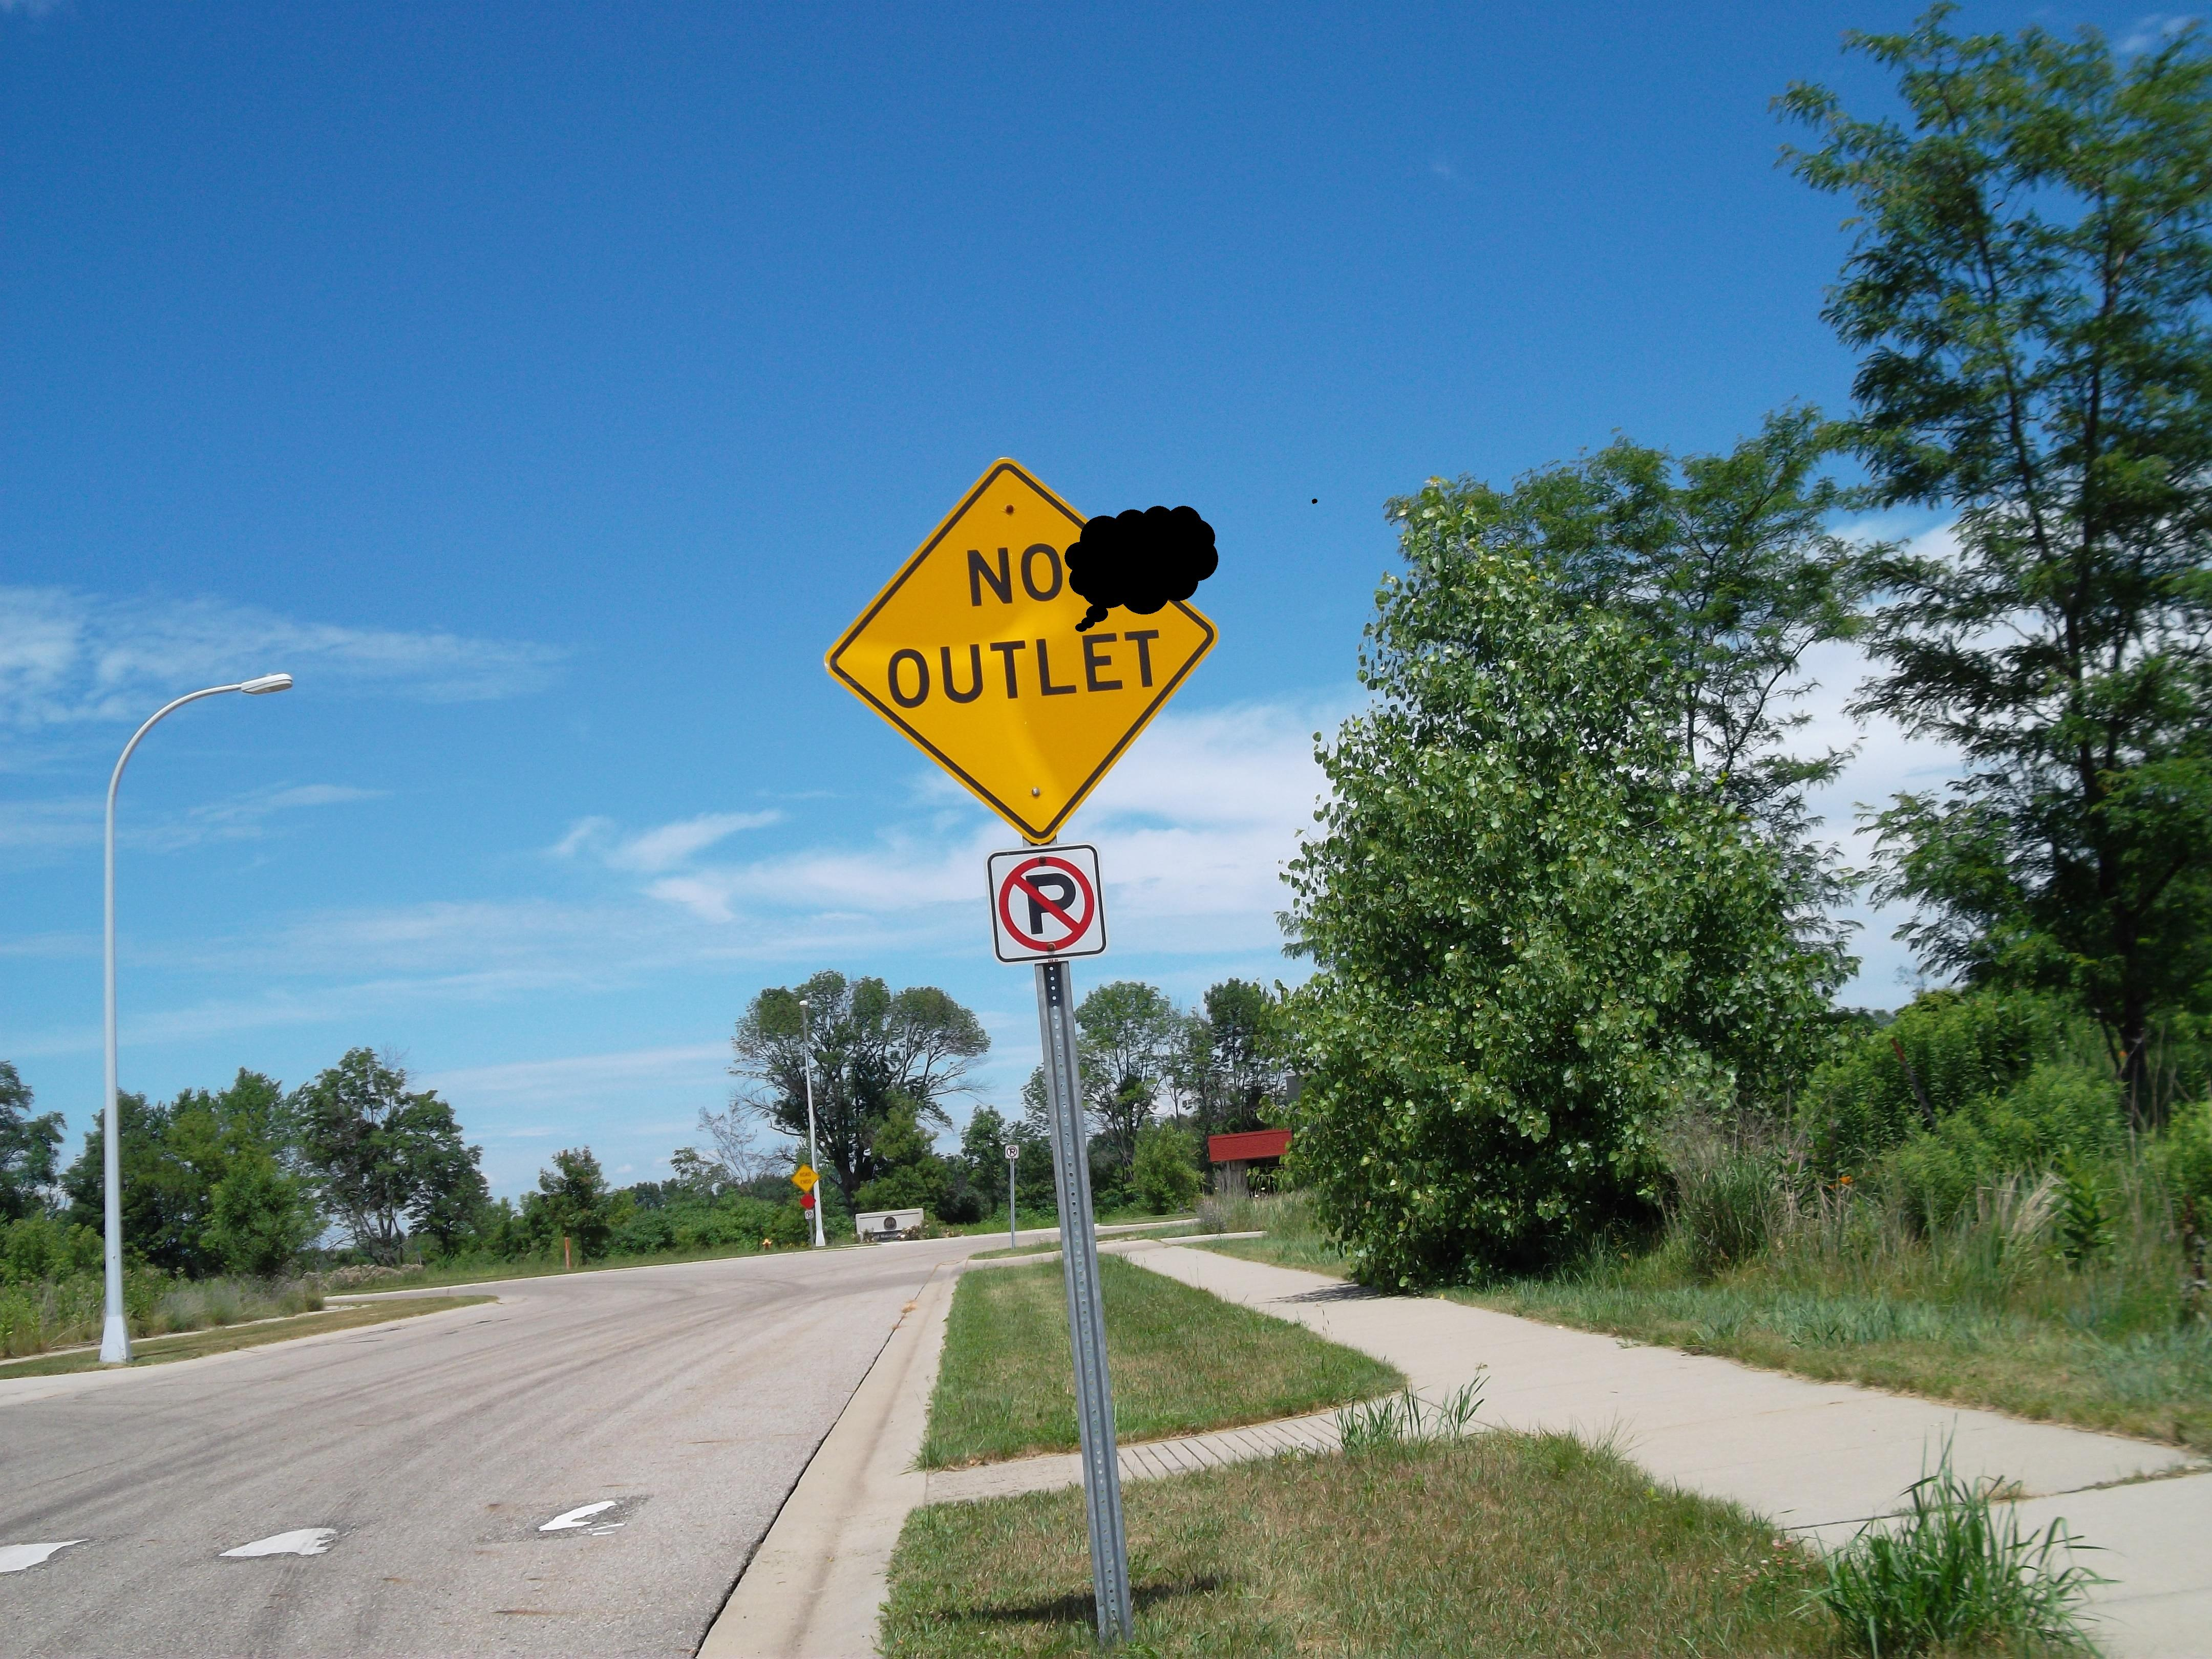regulatory: (977, 845, 1115, 967)
warning: (806, 430, 1228, 847)
